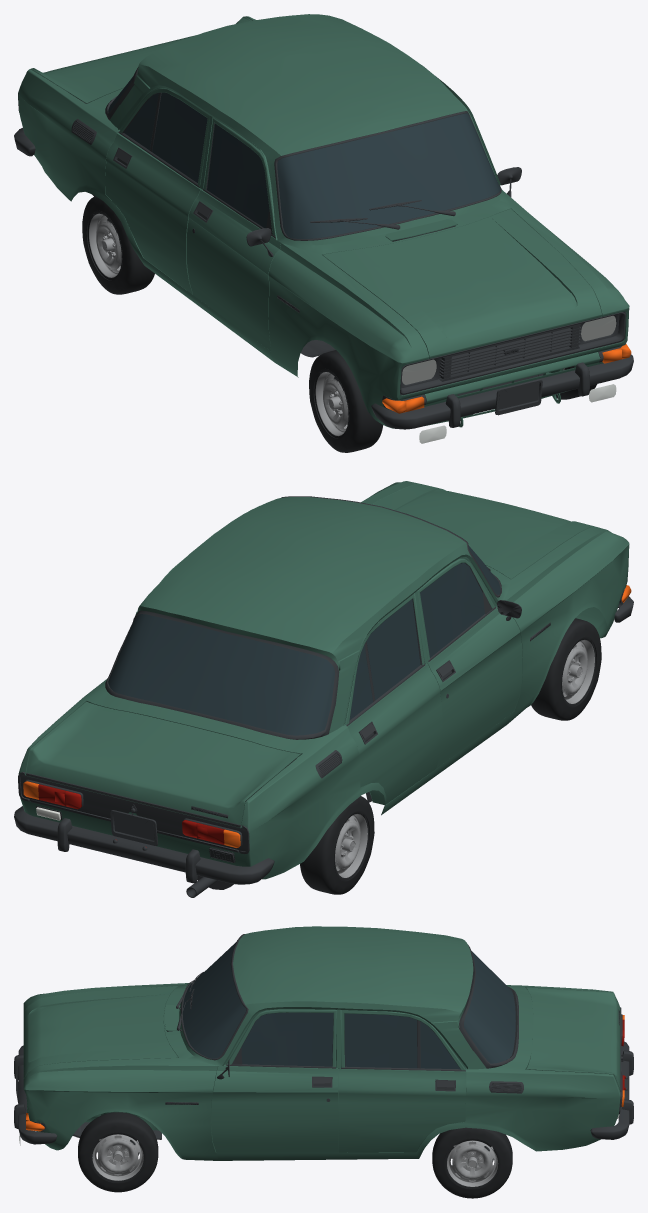
File: azlk2140.glb
3 views of the same model, one above another, from view 1: azimuth 30°, elevation 25°; view 2: azimuth 150°, elevation 25°; view 3: azimuth 270°, elevation 25° (orthographic). The views are drawn at different scales.
Visible parts, largest first — view 1: chassisbody, glass, chassis_trim, wheel_fr, wheel_rr, front_auxiliary, headlights; view 2: chassisbody, glass, chassis_trim, wheel_rr, wheel_fr, taillights; view 3: chassisbody, glass, chassis_trim, wheel_fl, wheel_rl, interior.
Part boxes in pixels (x1,y1,x2,y2): chassisbody: (18, 14, 629, 429); glass: (108, 76, 500, 238); chassis_trim: (14, 67, 633, 429); wheel_fr: (309, 350, 383, 452); wheel_rr: (82, 196, 154, 294); front_auxiliary: (402, 315, 616, 384); headlights: (419, 384, 616, 443); chassisbody: (18, 481, 629, 879); glass: (108, 545, 500, 735); chassis_trim: (14, 496, 633, 897); wheel_rr: (300, 796, 374, 894); wheel_fr: (531, 618, 601, 720); taillights: (38, 784, 224, 844); chassisbody: (23, 926, 620, 1160); glass: (182, 942, 515, 1069); chassis_trim: (14, 934, 633, 1144); wheel_fl: (78, 1112, 158, 1192); wheel_rl: (432, 1127, 512, 1198); interior: (73, 1031, 521, 1139).
Bounding box in the file's own units: 1.83 × 1.6 × 4.56.
